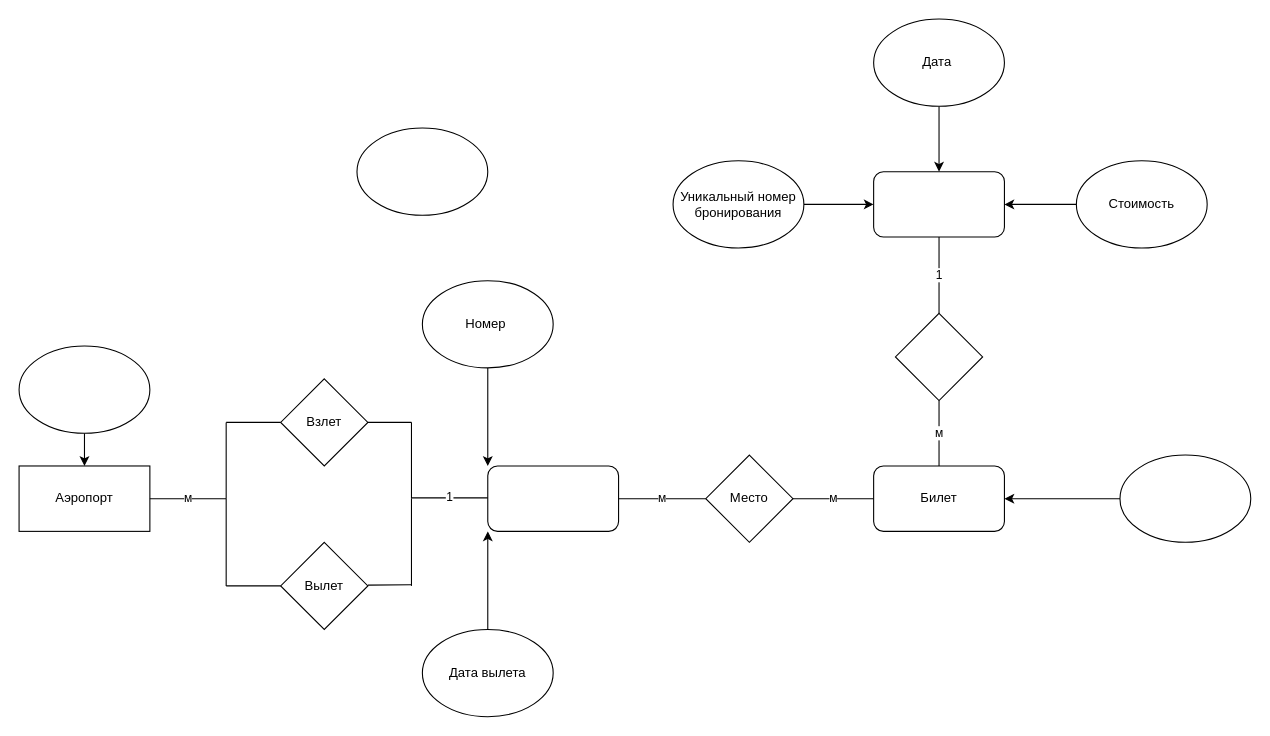
The diagram is 1270 pixels wide and 736 high, and some of its shapes have lost their labels. The centre of each missing label's shape, as x and y in pixels:
Бронирование: (938,204)
Имя: (422,171)
Номер документа: (1185,498)
Рейс: (553,498)
Уникальный код: (84,389)
